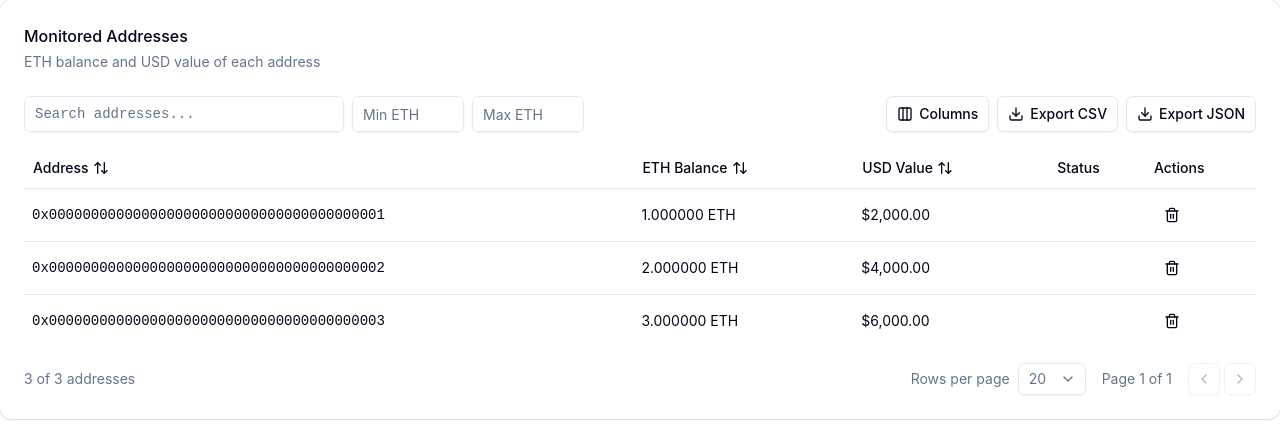
AddressTable › shows a message when no rows match the filters
Type "not an address" into the field labelled "Search addresses" at (184, 114), box [24,96,344,132]
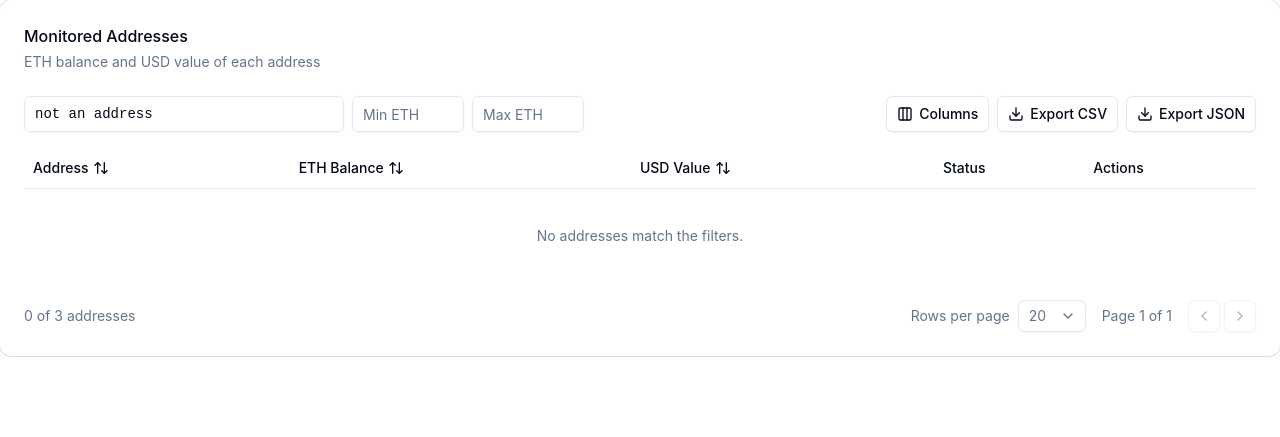
Result: the text "No addresses match the filters." is shown at [24,188,1256,284]
Result: the text "0 of 3 addresses" is shown at [24,306,135,326]
